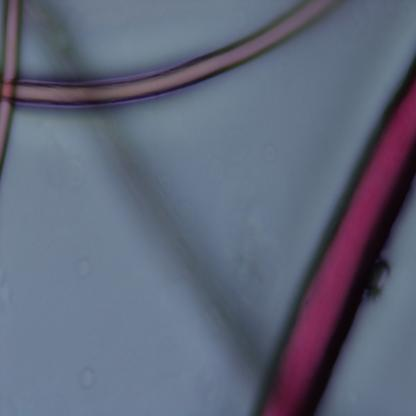Microfibre: (255, 65, 416, 415), (0, 0, 332, 108), (0, 0, 22, 173)
